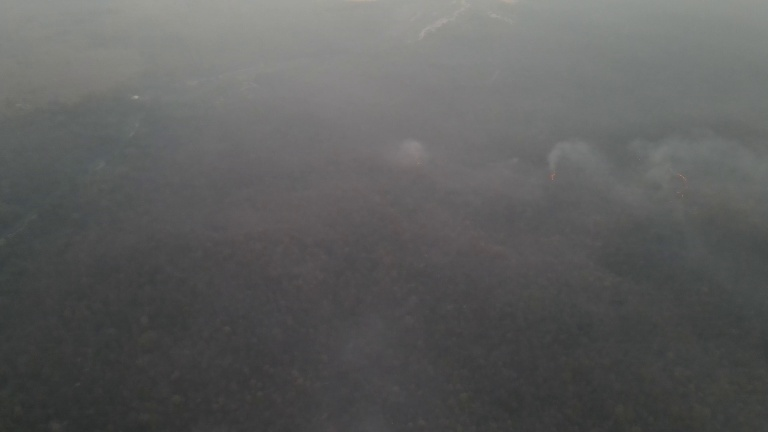fire: (662, 165, 690, 200), (544, 169, 564, 186)
smoke: (642, 132, 768, 267), (544, 138, 642, 222), (385, 135, 441, 188)
